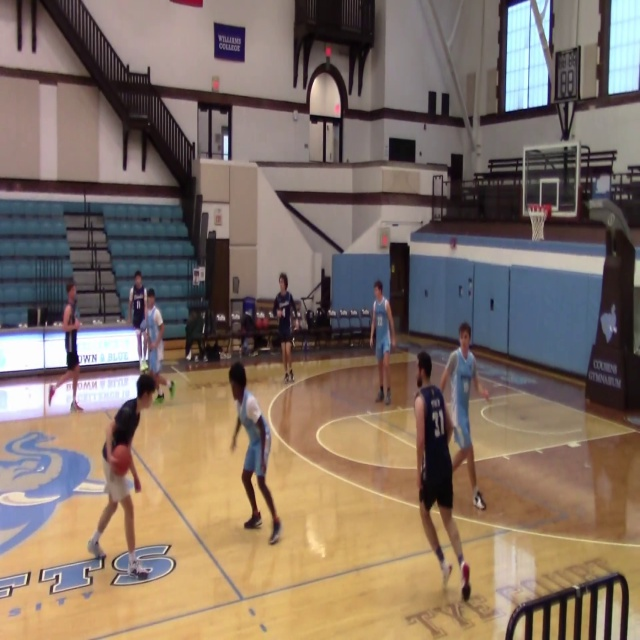Basketball: (109, 444, 132, 476)
